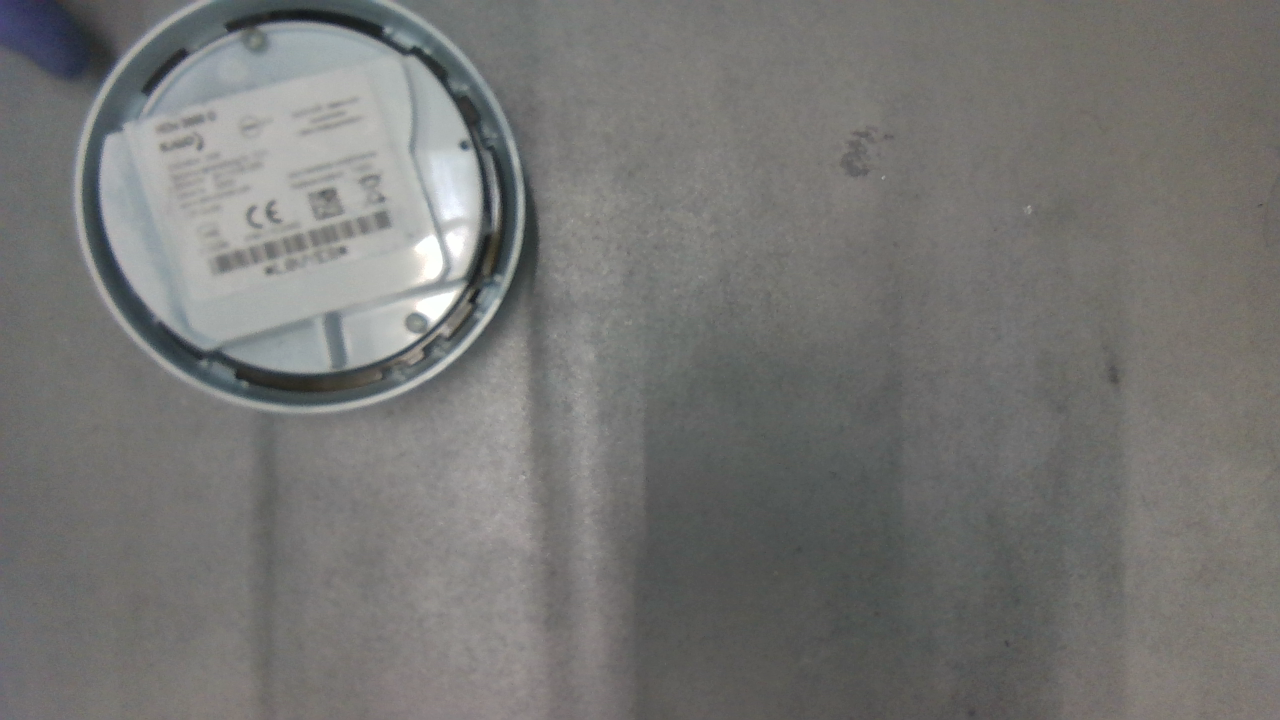HexScrew: (241, 29, 264, 50), (406, 312, 426, 333)
